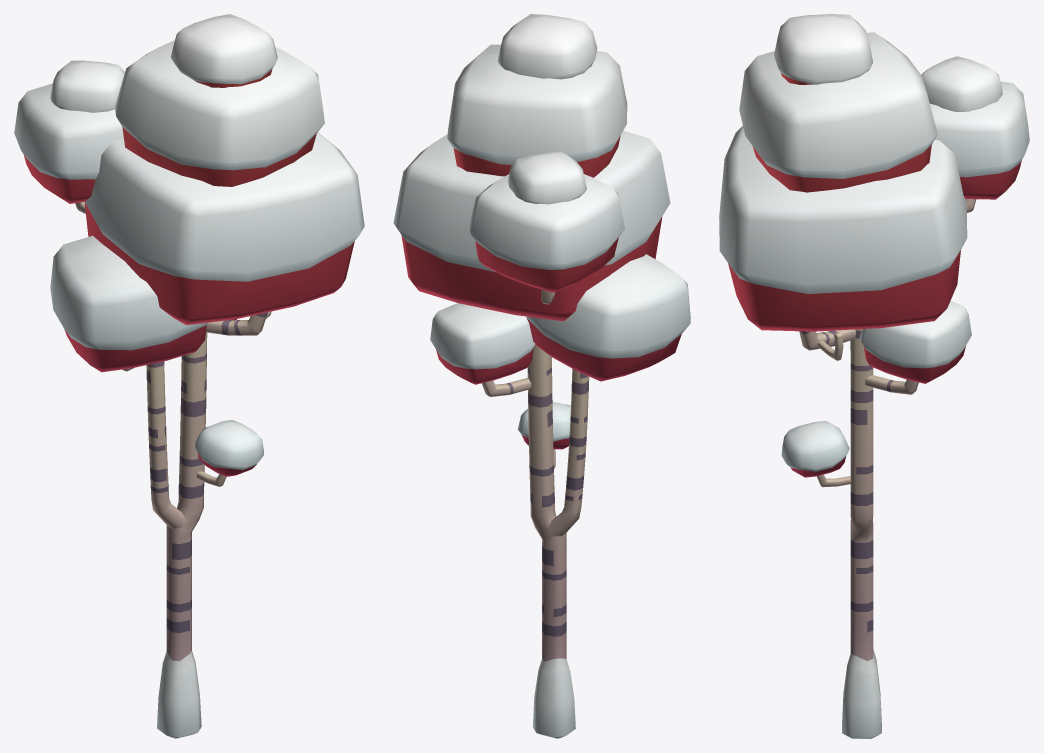
File: birch_tree_SC_01_snow.fbx
The picture shows the model from 3 angles, left to right: view 1: azimuth 30°, elevation 25°; view 2: azimuth 150°, elevation 25°; view 3: azimuth 270°, elevation 25°; orthographic projection. The views are drawn at different scales.
Visible parts, largest first — view 1: birch_tree_SC_01_snow; view 2: birch_tree_SC_01_snow; view 3: birch_tree_SC_01_snow.
Boxes of the visible parts, x1,y1,x2,y2 form: birch_tree_SC_01_snow: (14,14,364,738); birch_tree_SC_01_snow: (393,14,690,738); birch_tree_SC_01_snow: (719,14,1029,738).
Size of the model in its own units: 492 by 1301 by 506.
Materials: 1 (1 with a texture image).
